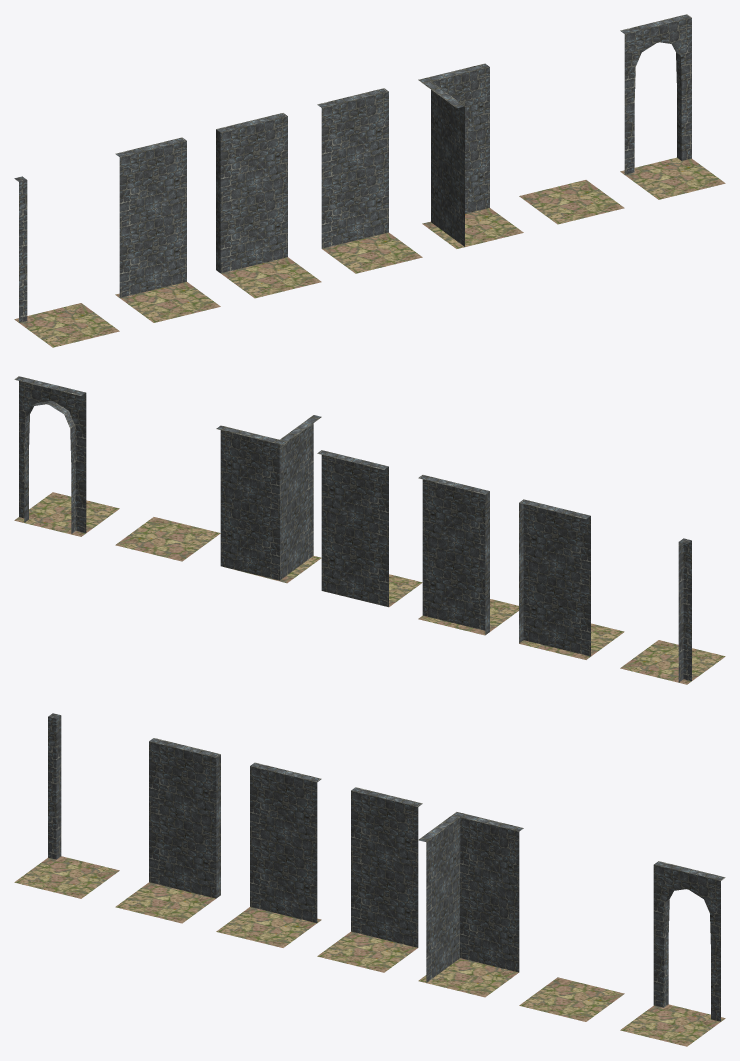
Rendered from worldtiles.glb.
3 renders of one model, top to bottom at view 1: azimuth 30°, elevation 25°; view 2: azimuth 150°, elevation 25°; view 3: azimuth 330°, elevation 25°, orthographic.
Visible parts, largest first — view 1: wall-end-l-col, wall-end-r-col, wall-col, corner-col, door-col, corner-out-col, floor-col; view 2: corner-col, wall-end-r-col, wall-end-l-col, wall-col, door-col, corner-out-col, floor-col; view 3: corner-col, wall-end-r-col, wall-end-l-col, wall-col, door-col, corner-out-col, floor-col.
Part boxes in pixels (x1,y1,x2,y2): wall-end-l-col: (216, 113, 321, 298); wall-end-r-col: (115, 137, 220, 322); wall-col: (317, 88, 422, 273); corner-col: (418, 63, 523, 248); door-col: (620, 14, 725, 199); corner-out-col: (14, 176, 119, 347); floor-col: (519, 180, 624, 224); corner-col: (216, 415, 321, 583); wall-end-r-col: (519, 499, 624, 659); wall-end-l-col: (418, 475, 518, 635); wall-col: (317, 450, 422, 607); door-col: (14, 376, 119, 536); corner-out-col: (620, 538, 725, 684); floor-col: (115, 517, 220, 561); corner-col: (418, 812, 523, 997); wall-end-r-col: (115, 738, 220, 923); wall-end-l-col: (216, 762, 321, 947); wall-col: (317, 787, 422, 972); door-col: (620, 861, 725, 1046); corner-out-col: (14, 713, 119, 898); floor-col: (519, 977, 624, 1021).
Size of the model in its own units: 20 by 4 by 2.
2 materials, 2 textured.
